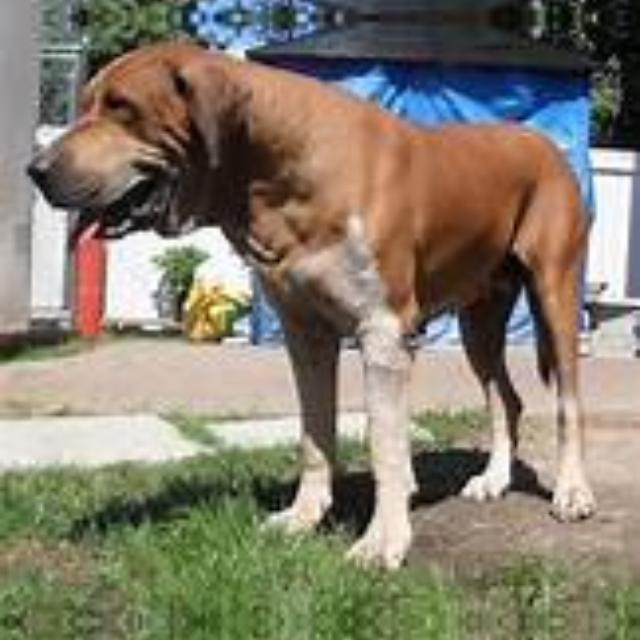dog: (36, 44, 640, 592)
